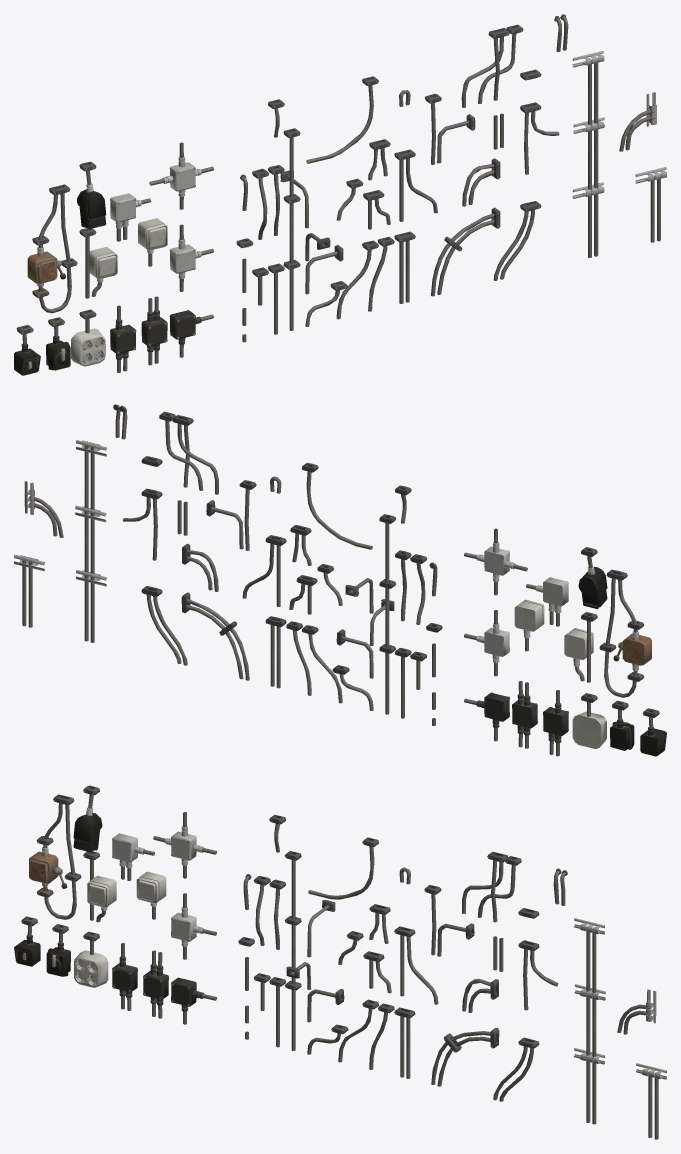
Rendered from modular_electric_cables_lod1.glb.
3 views of the same model, one above another, from view 1: azimuth 30°, elevation 25°; view 2: azimuth 150°, elevation 25°; view 3: azimuth 330°, elevation 25° (orthographic).
Visible parts, largest first — view 1: cable_straight_medium, cable_box_3way; view 2: cable_straight_medium, cable_box_3way; view 3: cable_straight_medium, cable_box_3way.
Boxes of the visible parts, x1,y1,x2,y2 form: cable_straight_medium: [236, 14, 666, 342]; cable_box_3way: [14, 142, 213, 375]; cable_straight_medium: [14, 404, 442, 725]; cable_box_3way: [464, 528, 666, 756]; cable_straight_medium: [238, 814, 666, 1139]; cable_box_3way: [14, 785, 216, 1024].
Bounding box in the file's own units: 2.08 × 0.7572 × 0.2146.
Materials: 2 (2 with a texture image).
